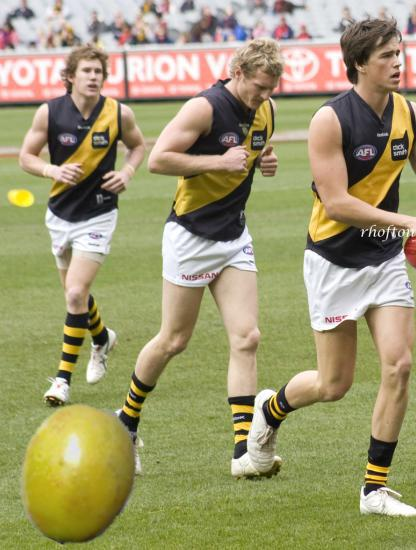Maracuja: (6, 402, 149, 545)
